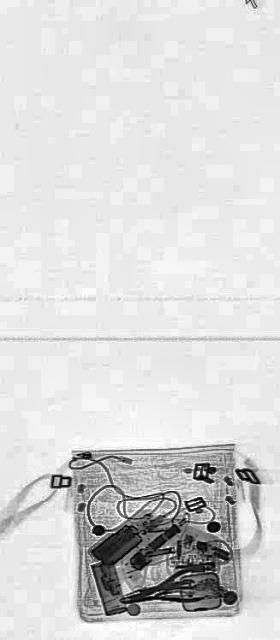Pliers: (117, 559, 205, 619)
